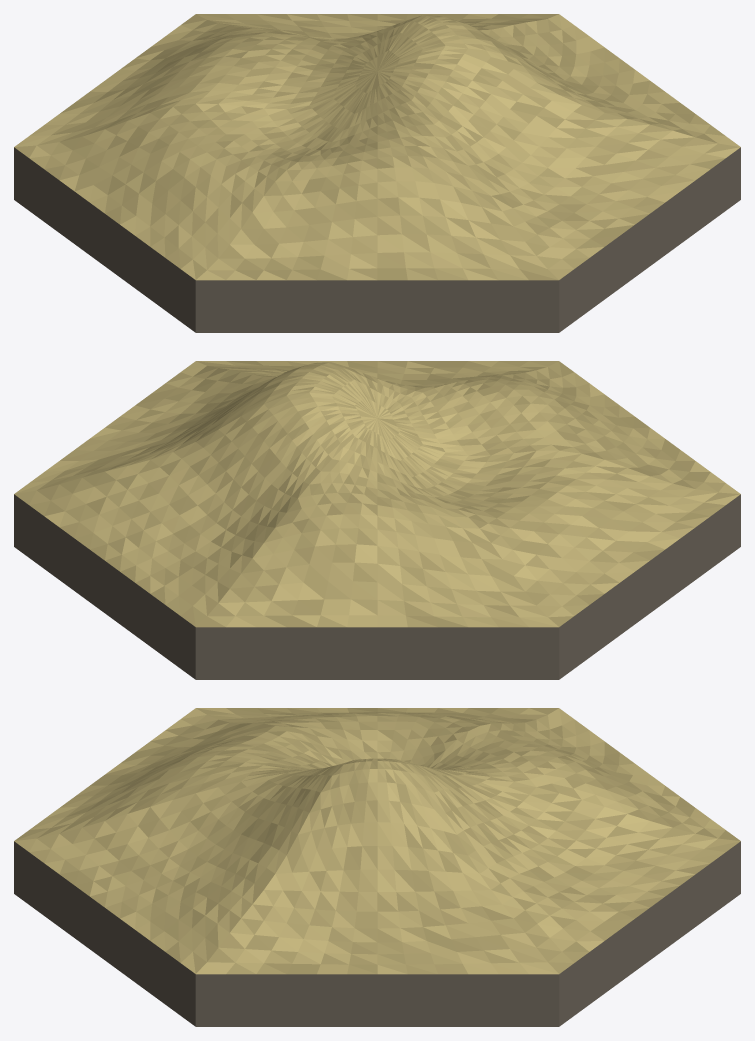
File: TERRAIN_PLAINS_HILLS_v00.fbx
The picture shows the model from 3 angles, top to bottom: view 1: azimuth 30°, elevation 25°; view 2: azimuth 150°, elevation 25°; view 3: azimuth 270°, elevation 25°; orthographic projection.
Visible parts, largest first — view 1: TERRAIN_PLAINS_HILLS_v00; view 2: TERRAIN_PLAINS_HILLS_v00; view 3: TERRAIN_PLAINS_HILLS_v00.
Boxes of the visible parts, box(x1,y1,x2,y2) form: TERRAIN_PLAINS_HILLS_v00: box(14, 14, 740, 332); TERRAIN_PLAINS_HILLS_v00: box(14, 361, 740, 679); TERRAIN_PLAINS_HILLS_v00: box(14, 708, 740, 1026).
Bounding box in the file's own units: 173 × 48.04 × 200.
